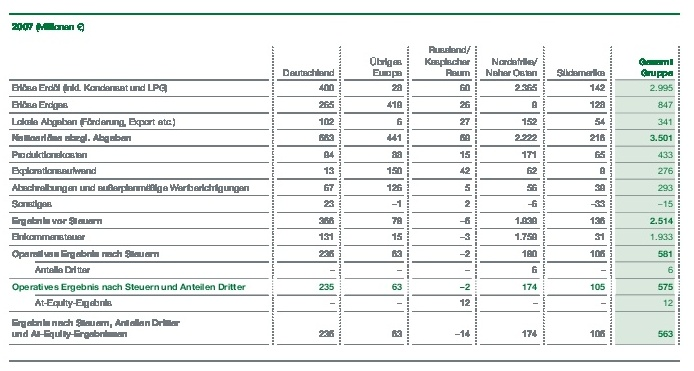table: (0, 0, 694, 371)
